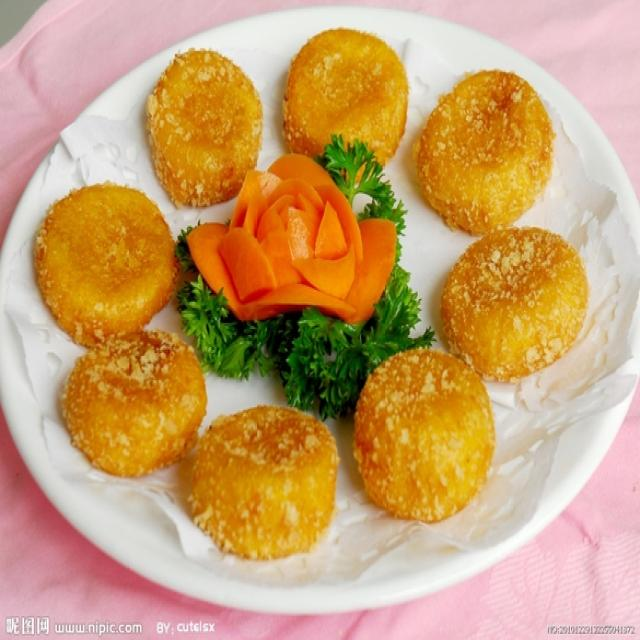炸货点心: (18, 15, 607, 592)
蛋糕甜品: (18, 15, 607, 592)
